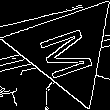M_E: (33, 19, 100, 80)
